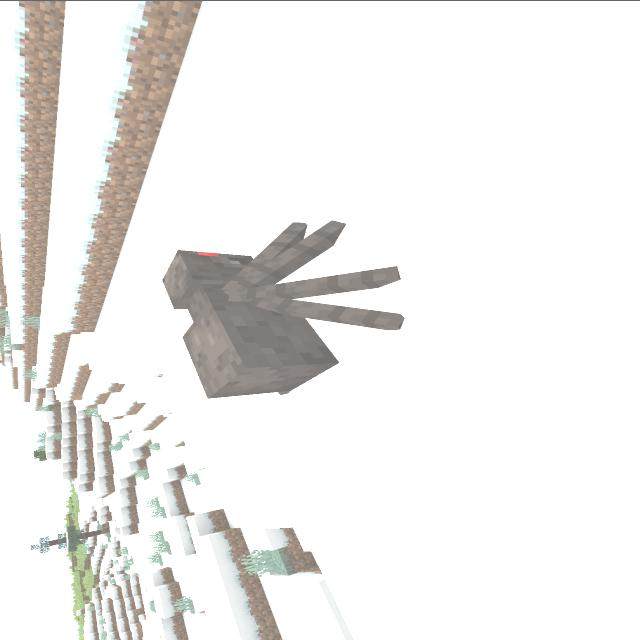Spider: (148, 210, 427, 408)
